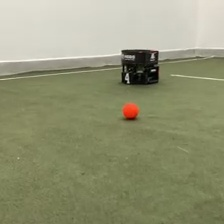ball: (121, 101, 139, 119)
robot: (120, 47, 160, 86)
